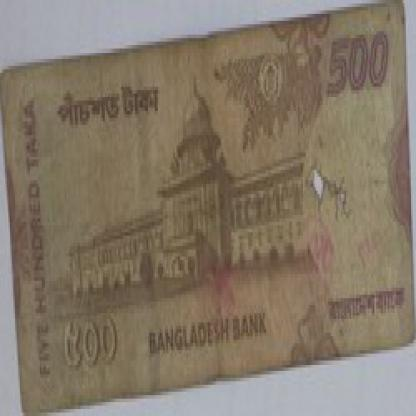500 taka: (40, 86, 185, 132), (55, 316, 135, 375)
currency: (0, 17, 415, 396)
